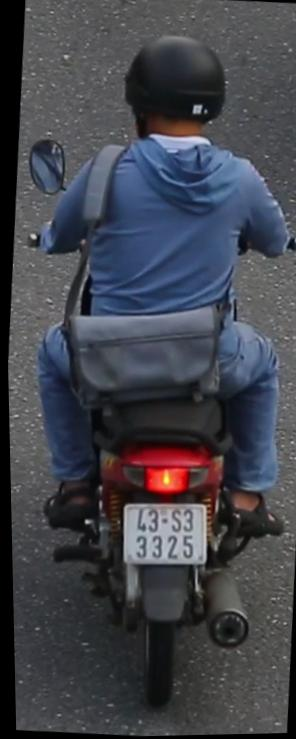LP: (114, 495, 210, 577)
helmet: (112, 27, 234, 164)
